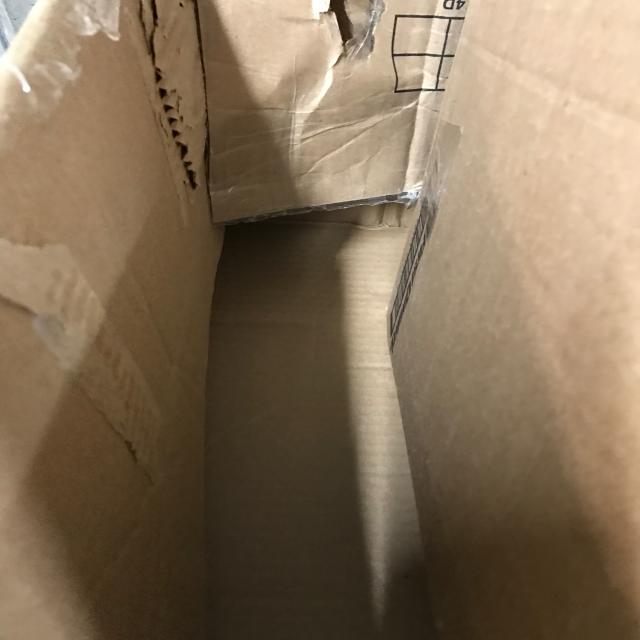cardboard: (10, 0, 592, 640)
